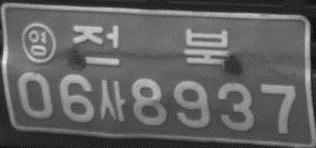0: (17, 71, 52, 120)
3: (216, 81, 255, 131)
6: (58, 74, 95, 123)
7: (259, 82, 297, 134)
8: (129, 77, 166, 126)
9: (173, 80, 211, 129)
사: (99, 78, 126, 122)
영: (20, 22, 56, 65)
전북_D: (72, 24, 228, 73)
